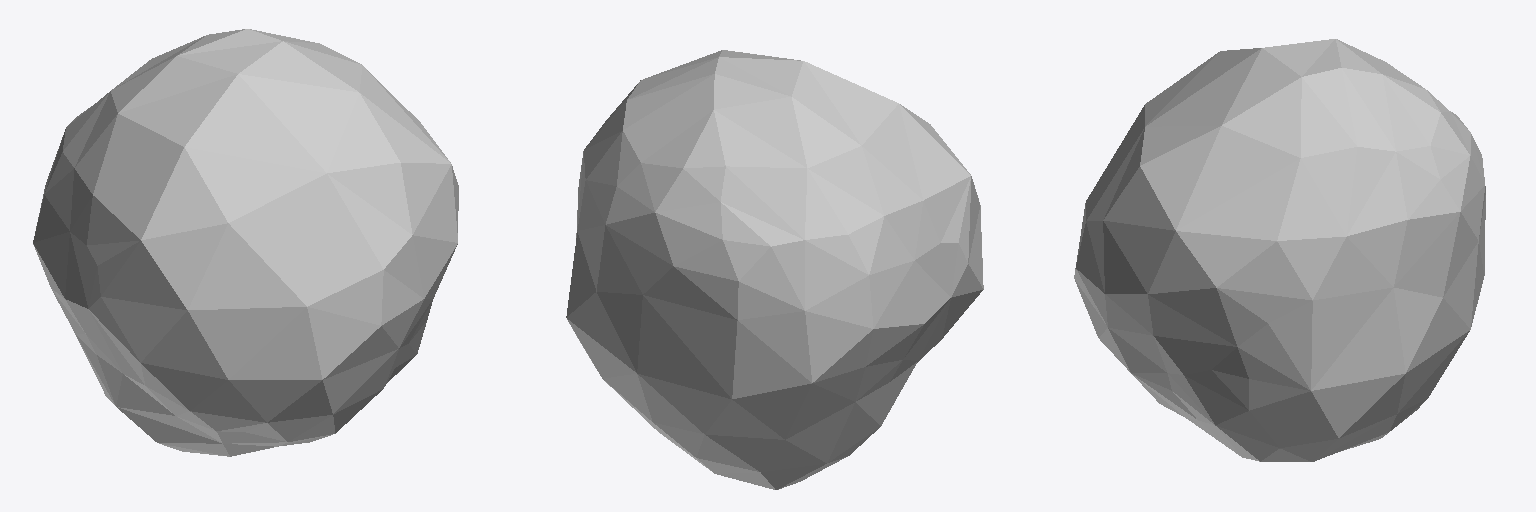
File: stg600_obj_meteoriteB02.obj
3 views of the same model, side by side, from view 1: azimuth 30°, elevation 25°; view 2: azimuth 150°, elevation 25°; view 3: azimuth 270°, elevation 25° (orthographic).
Parts seen in each view (by area): view 1: polygon0; view 2: polygon0; view 3: polygon0.
Part boxes in pixels (x1,y1,x2,y2): polygon0: (33,29,458,456); polygon0: (566,50,983,489); polygon0: (1074,39,1485,461).
Bounding box in the file's own units: 92.08 × 98.69 × 92.45.